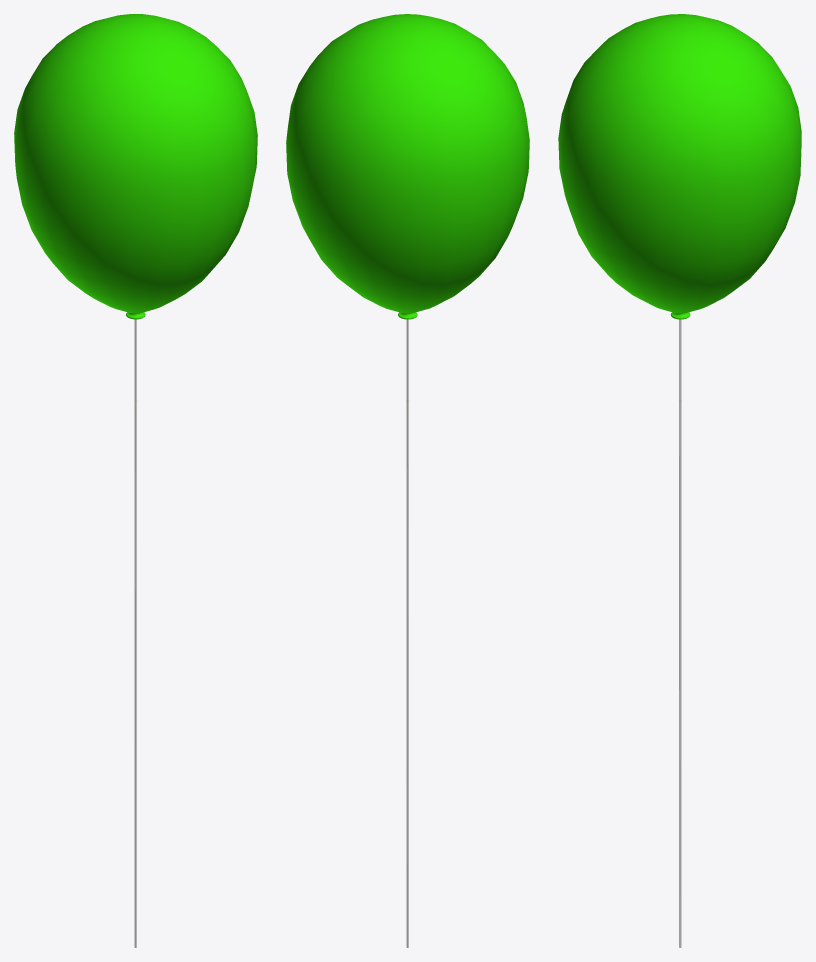
File: Balloon.fbx
3 renders of one model, left to right at view 1: azimuth 30°, elevation 25°; view 2: azimuth 150°, elevation 25°; view 3: azimuth 270°, elevation 25°, orthographic.
Visible parts, largest first — view 1: Sphere; view 2: Sphere; view 3: Sphere.
Boxes of the visible parts, x1,y1,x2,y2 form: Sphere: (14,14,257,947); Sphere: (286,14,529,947); Sphere: (558,14,801,947).
Bounding box in the file's own units: 199 × 832 × 199.
